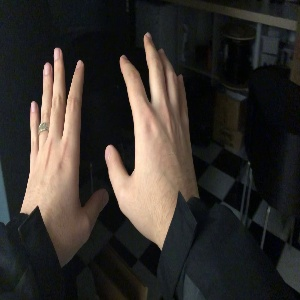hand: (106, 32, 198, 209), (24, 47, 109, 228)
